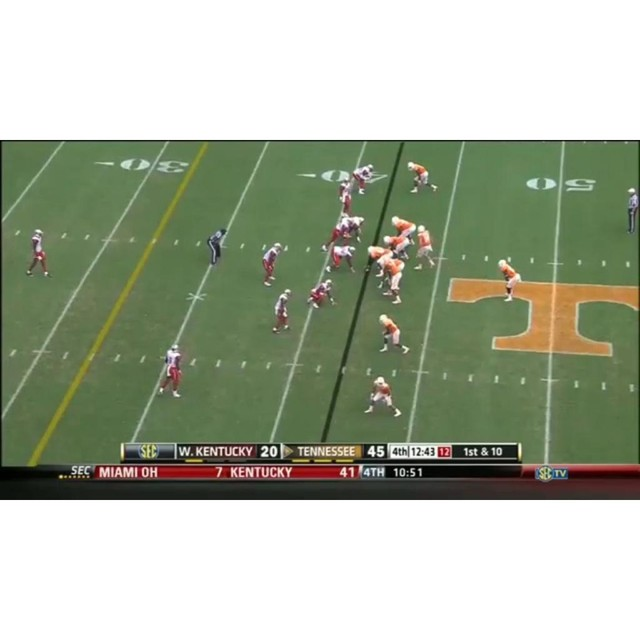american-football-player: (364, 376, 402, 417), (378, 313, 409, 355), (321, 215, 356, 252), (379, 256, 405, 305), (26, 229, 52, 278), (159, 344, 183, 397), (407, 161, 439, 195), (414, 224, 436, 270), (261, 242, 284, 286), (498, 259, 521, 301), (305, 279, 337, 309), (272, 288, 292, 332), (326, 248, 357, 275), (383, 233, 412, 260), (351, 163, 374, 196), (392, 215, 417, 242), (338, 178, 354, 216)
referee: (207, 227, 228, 267), (626, 186, 640, 235)
